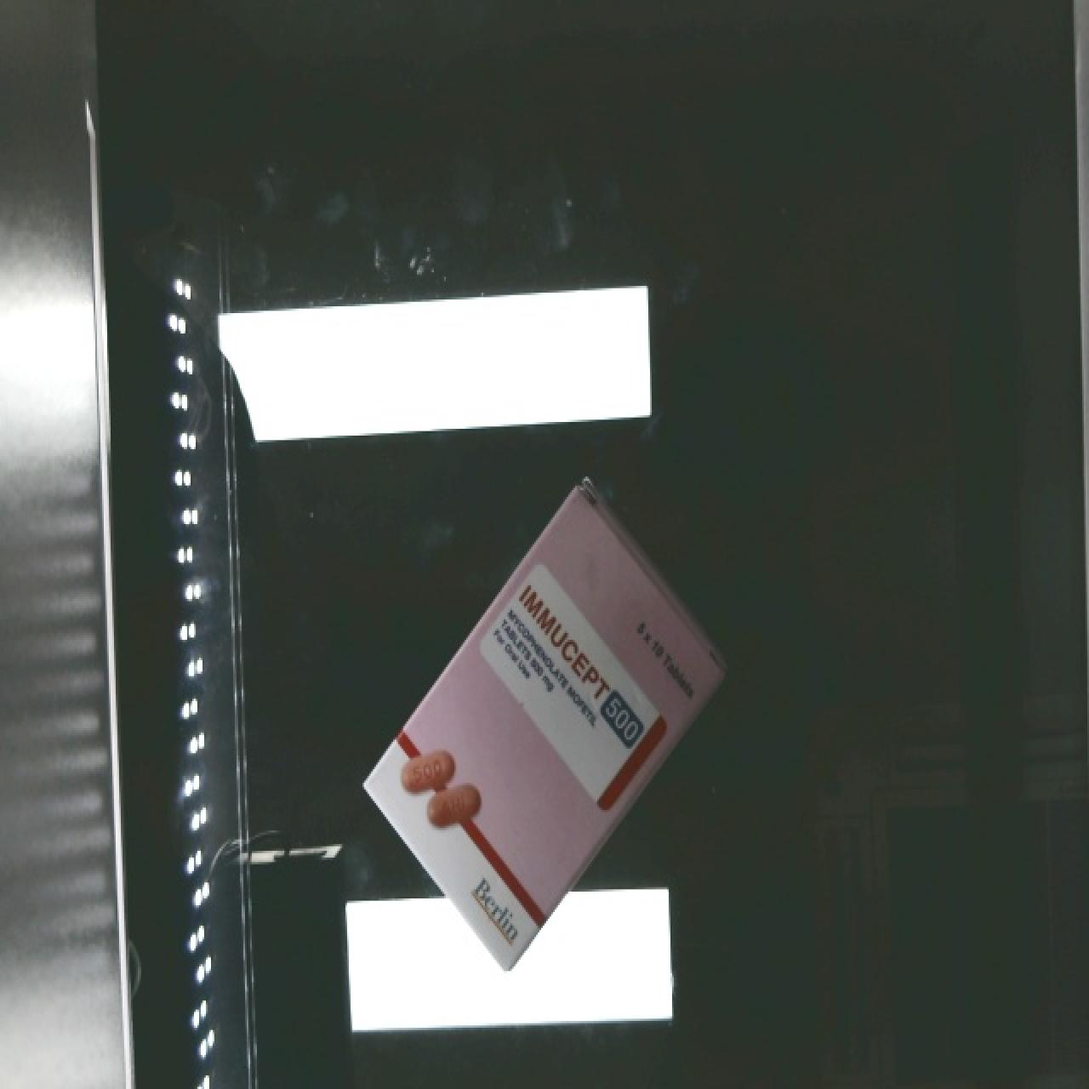medicine_label_obb: (496, 564, 677, 772)
